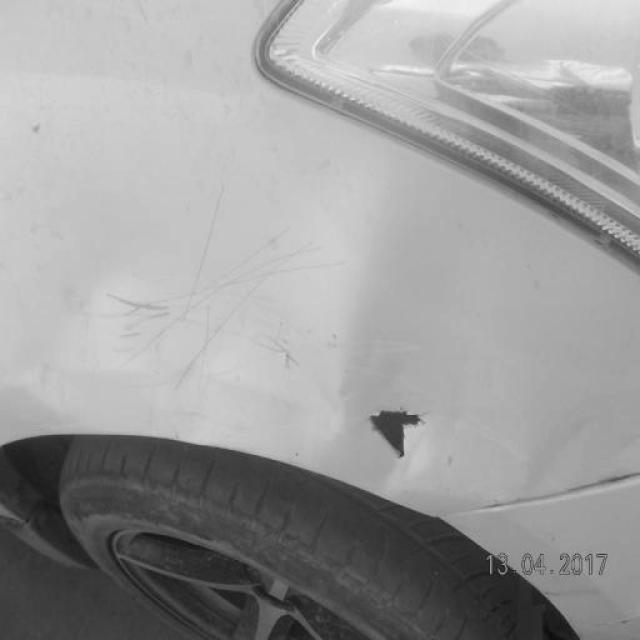scratch: (99, 162, 357, 398)
tear: (367, 399, 433, 469)
